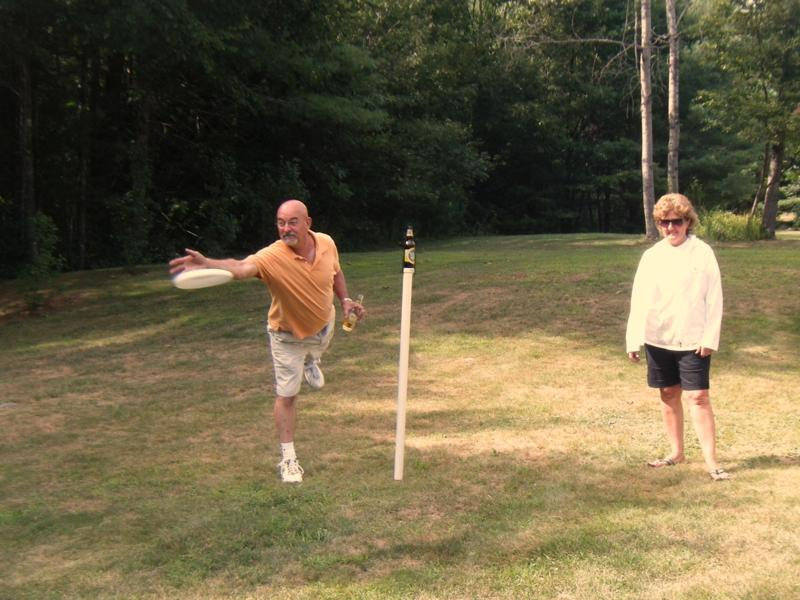person: (169, 200, 365, 486)
